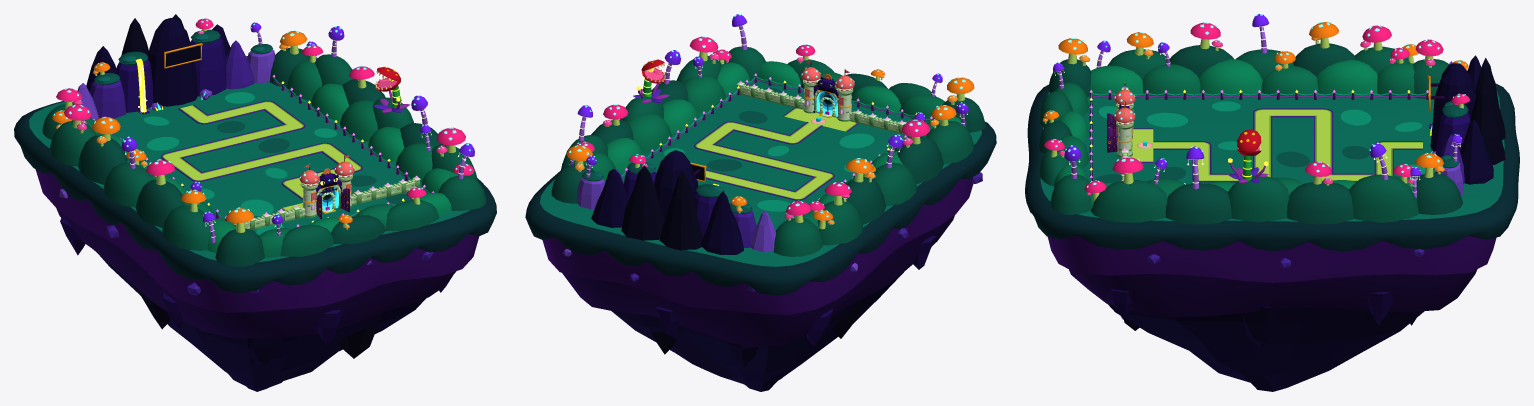
File: alien_jungle_base.fbx
3 renders of one model, left to right at view 1: azimuth 30°, elevation 25°; view 2: azimuth 150°, elevation 25°; view 3: azimuth 270°, elevation 25°, orthographic. The views are drawn at different scales.
Visible parts, largest first — view 1: Base_Cliff, Base_Backdrop, Base_Ground, Base_Trees, Base_Road, Base_Gate, Base_Glow, Base_Dressing, Base_GateTrim; view 2: Base_Cliff, Base_Backdrop, Base_Ground, Base_Trees, Base_Road, Base_Gate, Base_Glow, Base_Dressing, Base_GateTrim; view 3: Base_Cliff, Base_Backdrop, Base_Ground, Base_Trees, Base_Road, Base_Glow, Base_Dressing, Base_Gate, Base_GateTrim.
Boxes of the visible parts, <box> form: Base_Cliff: <box>14,56,496,391</box>; Base_Backdrop: <box>42,14,486,266</box>; Base_Ground: <box>29,57,469,262</box>; Base_Trees: <box>52,18,474,242</box>; Base_Road: <box>161,100,362,211</box>; Base_Gate: <box>234,154,420,229</box>; Base_Glow: <box>53,18,473,237</box>; Base_Dressing: <box>112,77,429,224</box>; Base_GateTrim: <box>299,155,354,201</box>; Base_Cliff: <box>525,121,996,391</box>; Base_Backdrop: <box>551,46,985,256</box>; Base_Ground: <box>540,80,981,266</box>; Base_Trees: <box>566,14,974,229</box>; Base_Road: <box>656,107,858,200</box>; Base_Gate: <box>737,60,904,134</box>; Base_Glow: <box>569,14,967,224</box>; Base_Dressing: <box>621,76,932,210</box>; Base_GateTrim: <box>801,61,854,123</box>; Base_Cliff: <box>1025,83,1519,391</box>; Base_Backdrop: <box>1038,43,1505,224</box>; Base_Ground: <box>1040,91,1504,221</box>; Base_Trees: <box>1042,14,1470,201</box>; Base_Road: <box>1130,108,1422,182</box>; Base_Glow: <box>1043,14,1466,192</box>; Base_Dressing: <box>1089,92,1428,181</box>; Base_Gate: <box>1107,82,1153,180</box>; Base_GateTrim: <box>1114,89,1151,148</box>.
Bounding box in the file's own units: 188 × 179 × 244.
